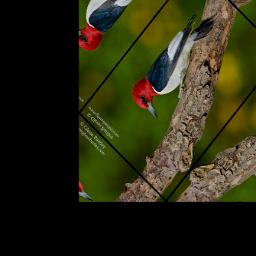Woodpecker: (126, 0, 238, 128)
